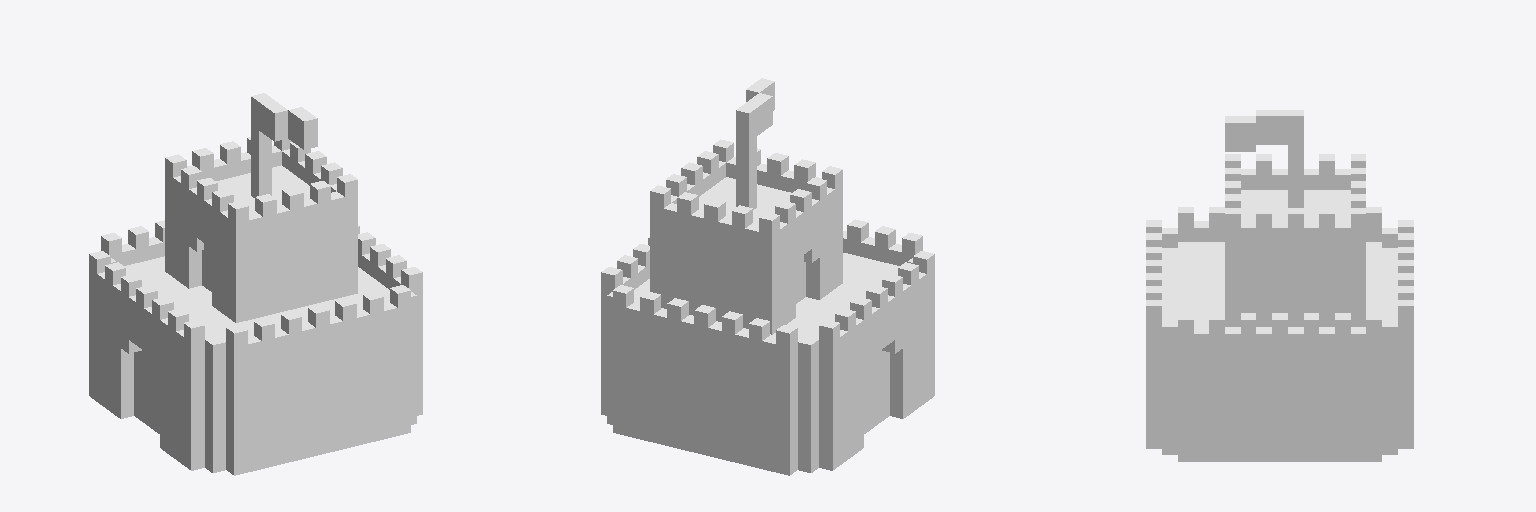
Rendered from Outpost2.obj.
3 views of the same model, side by side, from view 1: azimuth 30°, elevation 25°; view 2: azimuth 150°, elevation 25°; view 3: azimuth 270°, elevation 25° (orthographic).
Parts seen in each view (by area): view 1: object 1; view 2: object 1; view 3: object 1.
Boxes of the visible parts, x1,y1,x2,y2 form: object 1: [89, 93, 422, 475]; object 1: [601, 78, 934, 475]; object 1: [1146, 110, 1413, 461].
Size of the model in its own units: 1.7 by 2.1 by 1.7.